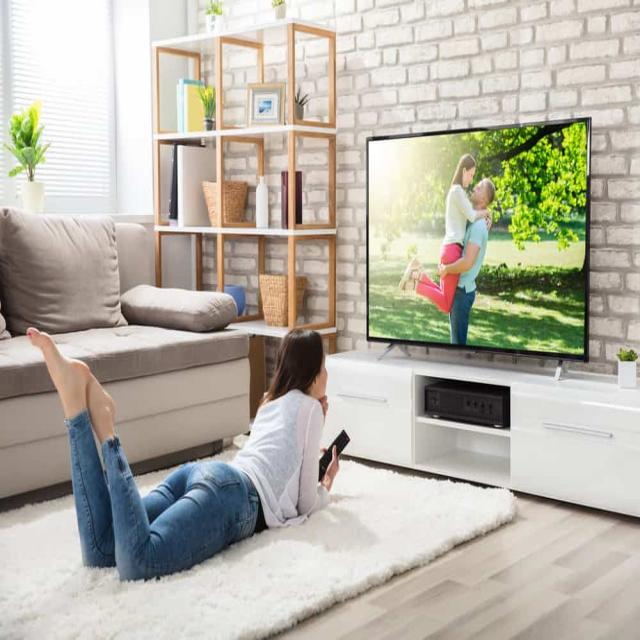tv-person: (24, 109, 610, 586)
